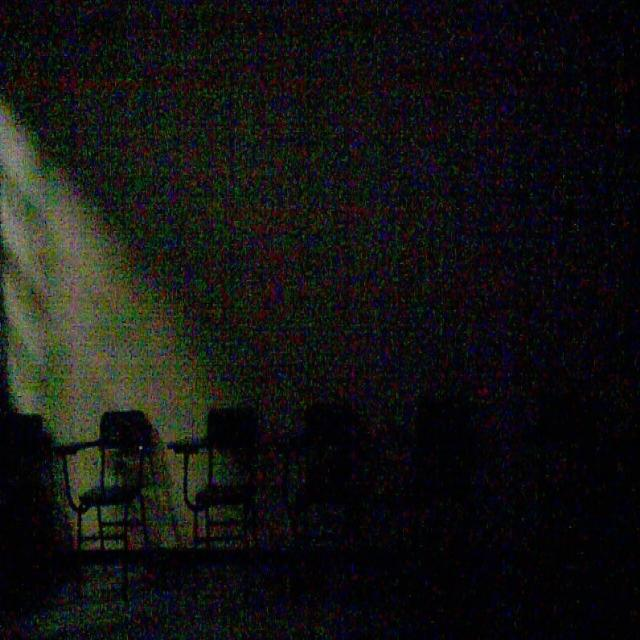chair: (64, 389, 160, 581), (406, 371, 495, 575), (286, 366, 369, 564), (181, 388, 258, 587)
